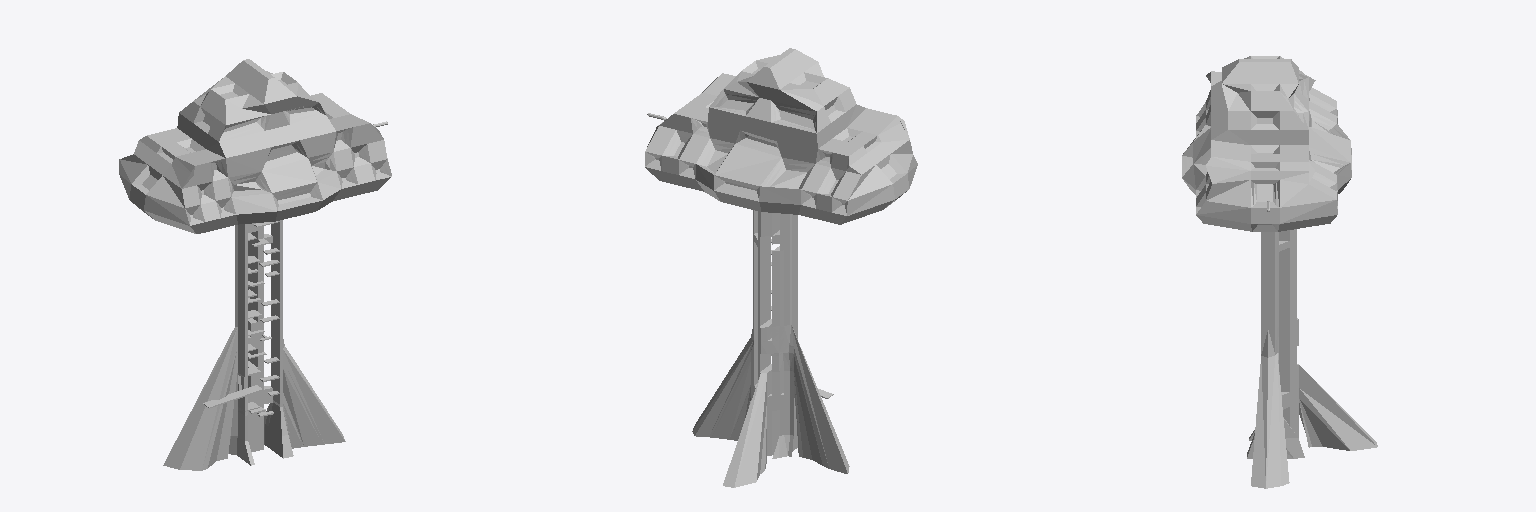
Rendered from big Tree.obj.
3 renders of one model, left to right at view 1: azimuth 30°, elevation 25°; view 2: azimuth 150°, elevation 25°; view 3: azimuth 270°, elevation 25°, orthographic.
Visible parts, largest first — view 1: pCube3, pCube2; view 2: pCube3, pCube2; view 3: pCube3, pCube2.
Part boxes in pixels (x1,y1,x2,y2): pCube3: (119, 59, 391, 233); pCube2: (163, 121, 387, 470); pCube3: (645, 48, 917, 224); pCube2: (647, 113, 849, 487); pCube3: (1182, 56, 1351, 231); pCube2: (1247, 201, 1377, 488).
Bounding box in the file's own units: 137 × 200 × 92.01.